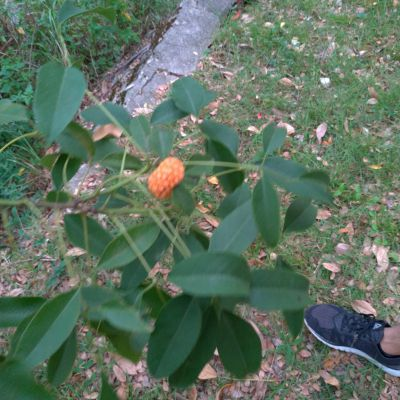eggs: (142, 154, 186, 198)
